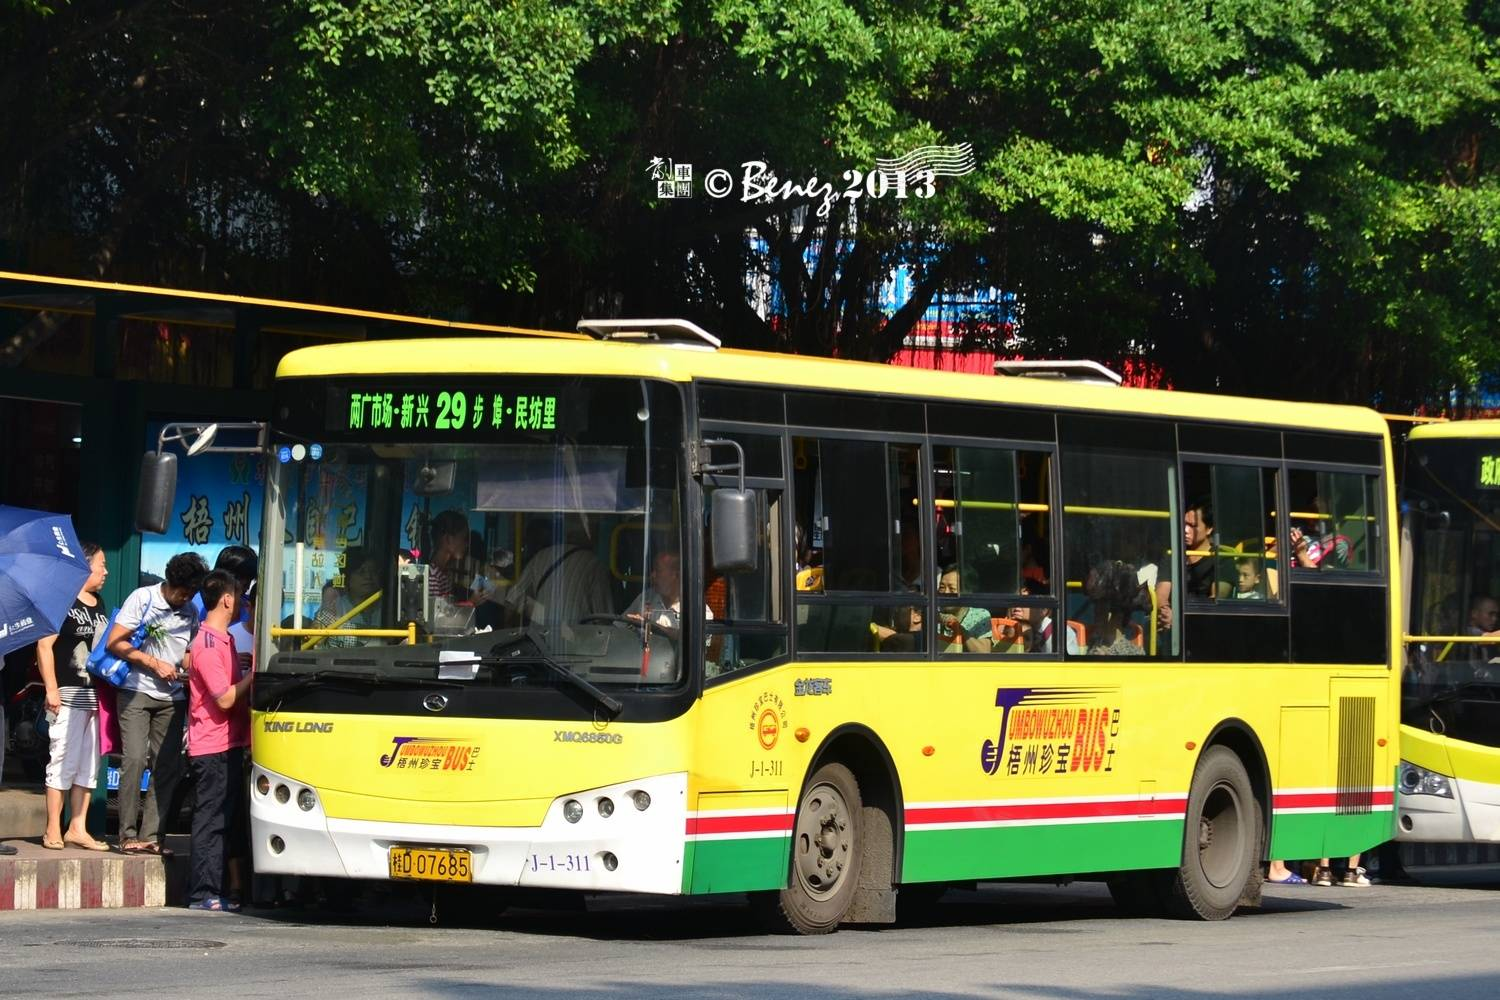bus: (258, 327, 1396, 878)
person: (136, 542, 223, 886)
